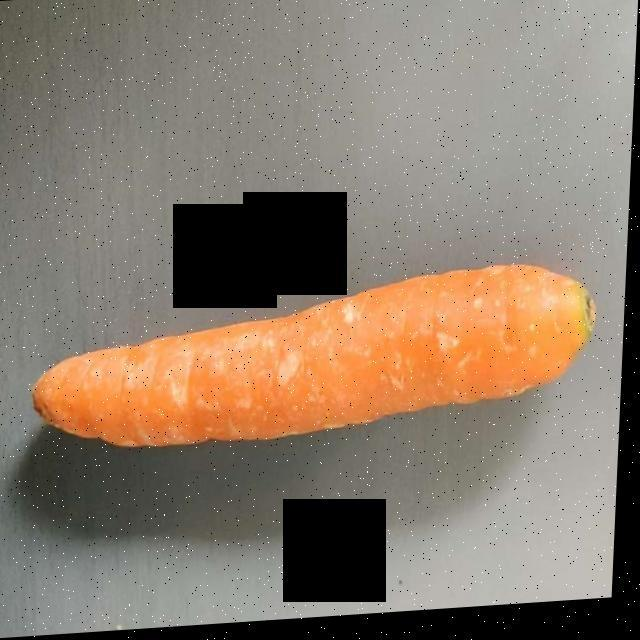carrot: (39, 276, 602, 448)
